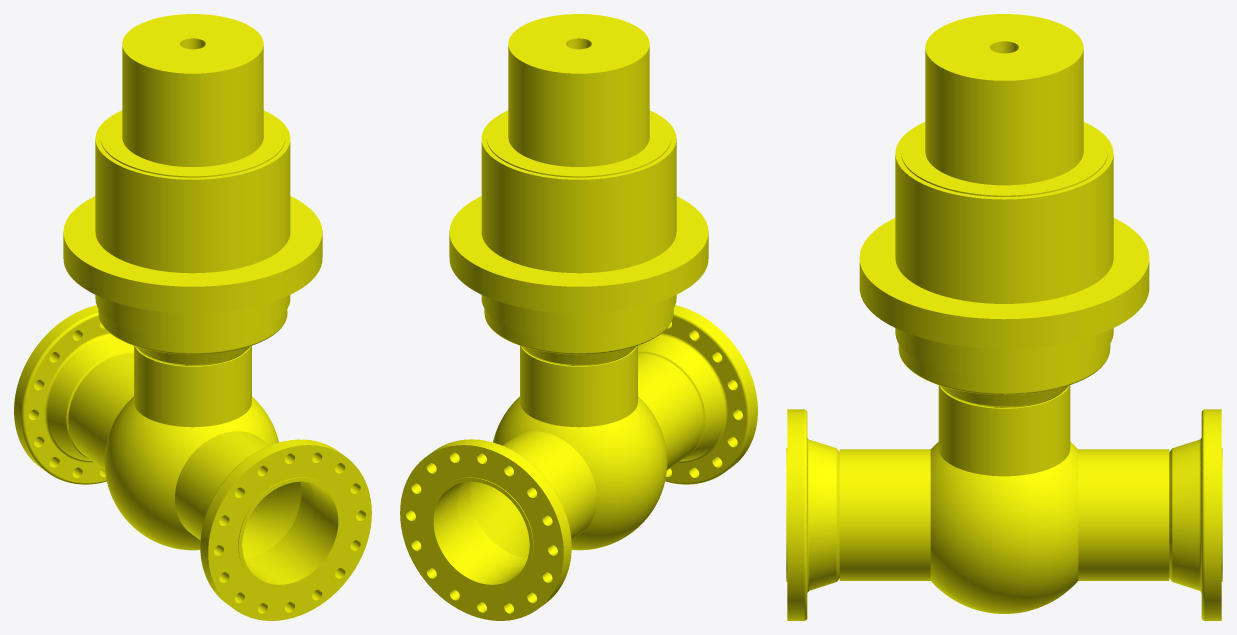
File: pcv_assembly.glb
3 renders of one model, left to right at view 1: azimuth 30°, elevation 25°; view 2: azimuth 150°, elevation 25°; view 3: azimuth 270°, elevation 25°, orthographic. The views are drawn at different scales.
Parts seen in each view (by area): view 1: =>[0:1:1:2]; view 2: =>[0:1:1:2]; view 3: =>[0:1:1:2].
Part boxes in pixels (x1,y1,x2,y2): =>[0:1:1:2]: (14,14,371,620); =>[0:1:1:2]: (400,14,757,620); =>[0:1:1:2]: (786,14,1222,620).
Bounding box in the file's own units: 0.7123 × 1.53 × 1.07.
